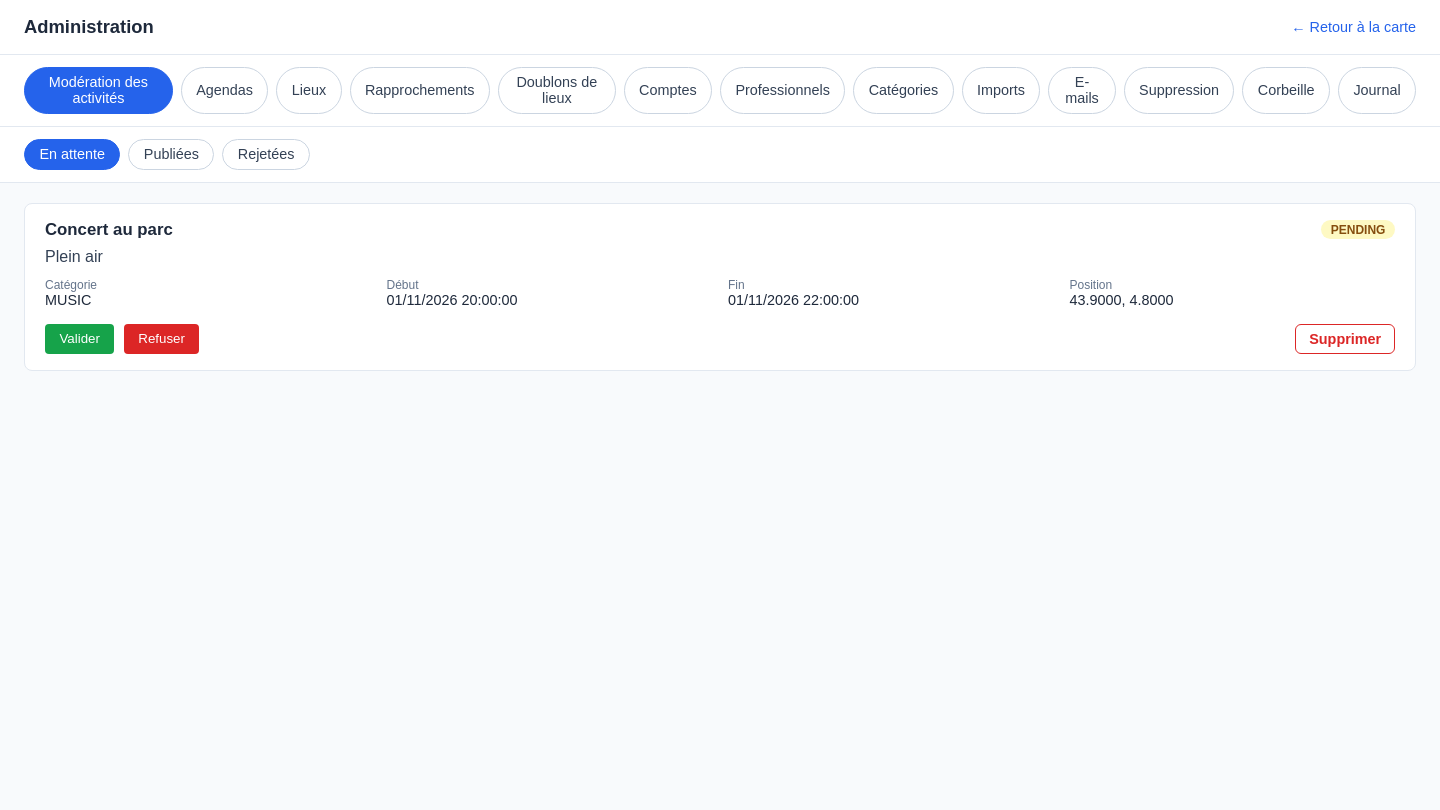
Test: AdminPage — modération › annuler le motif n'envoie rien, et un refus 403 du serveur est affiché
This screenshot has width=1440, height=810.
Click the button "Refuser": (162, 339) left=124, top=324, right=199, bottom=354
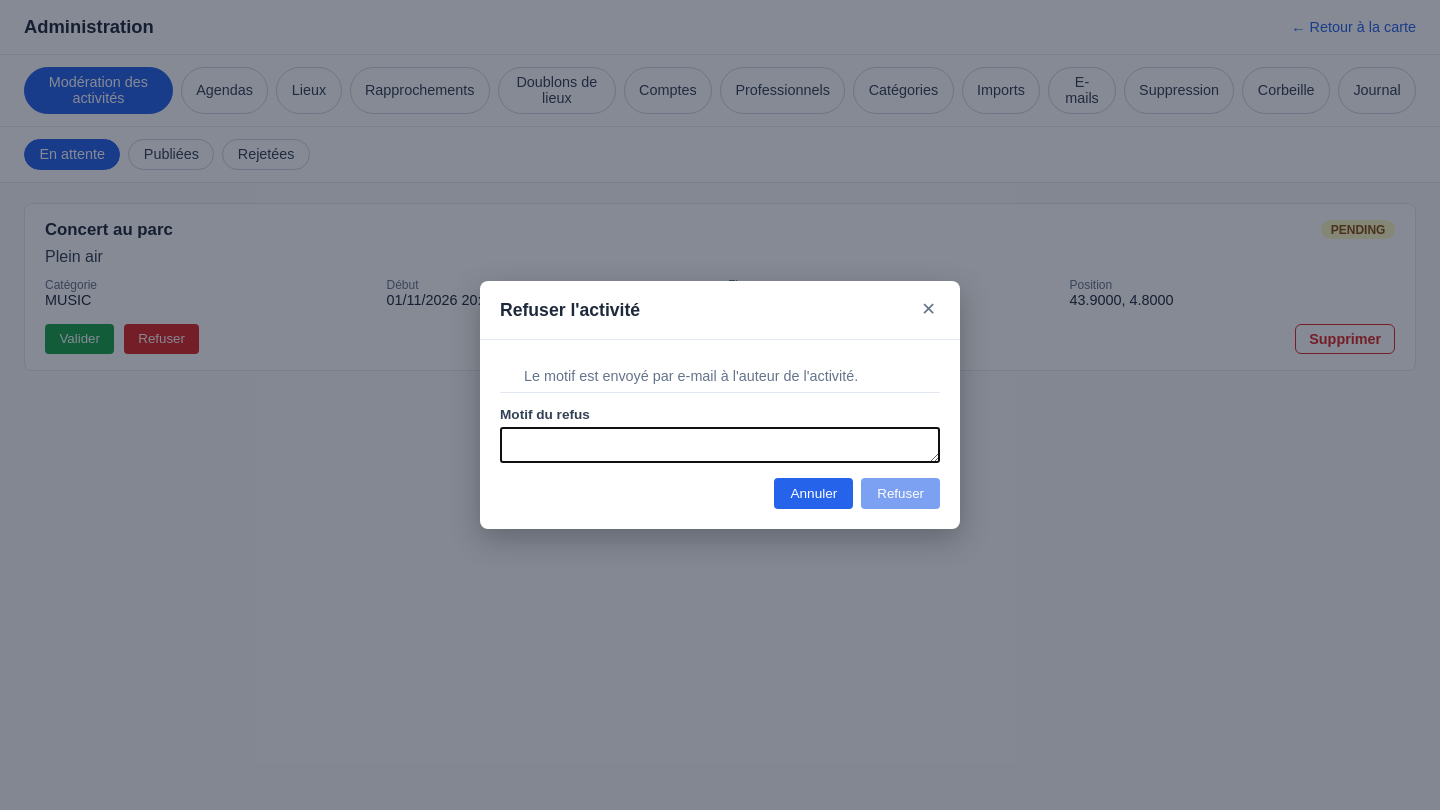
Click the button "Annuler": (814, 493) left=774, top=478, right=853, bottom=509
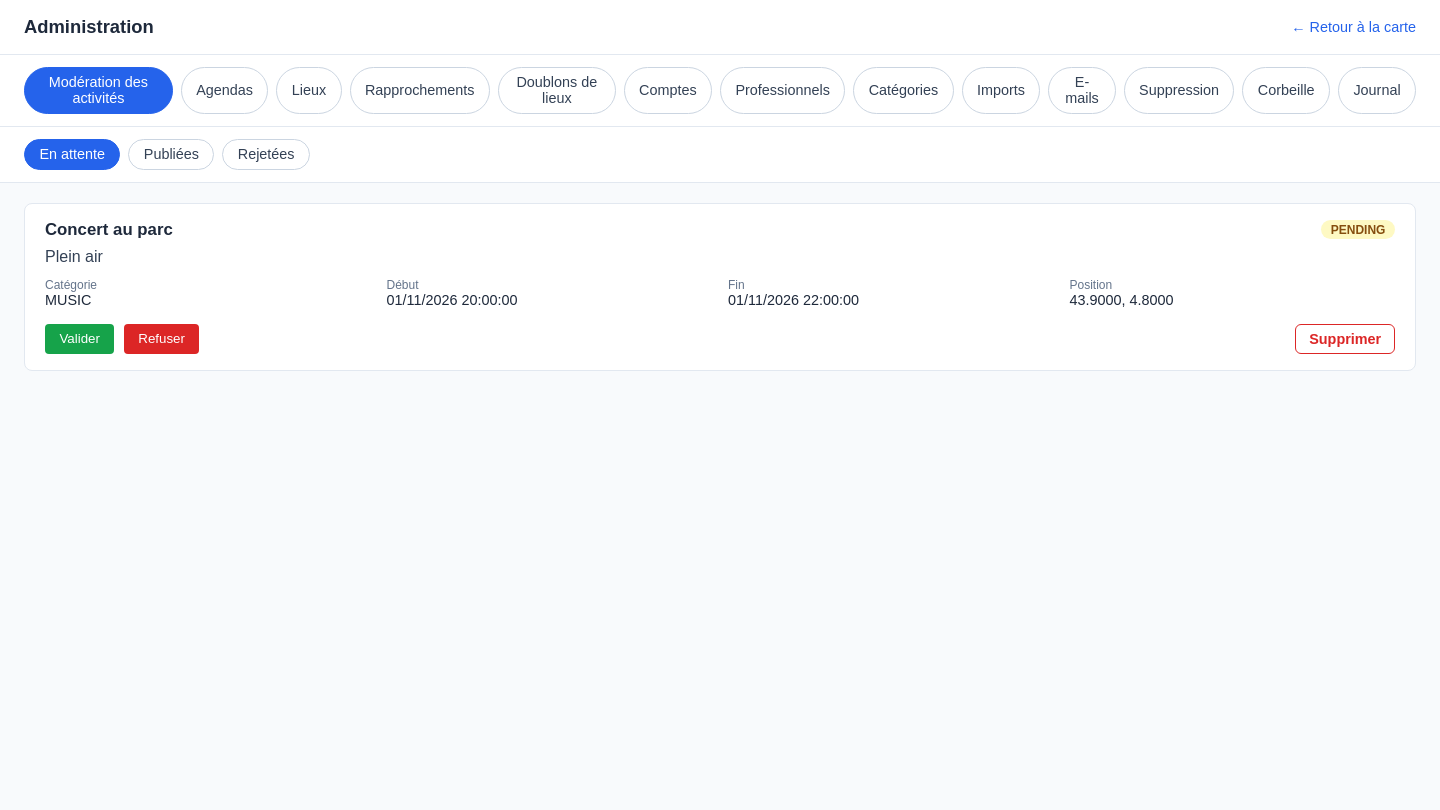
Click the button "Valider": (80, 339) left=45, top=324, right=114, bottom=354
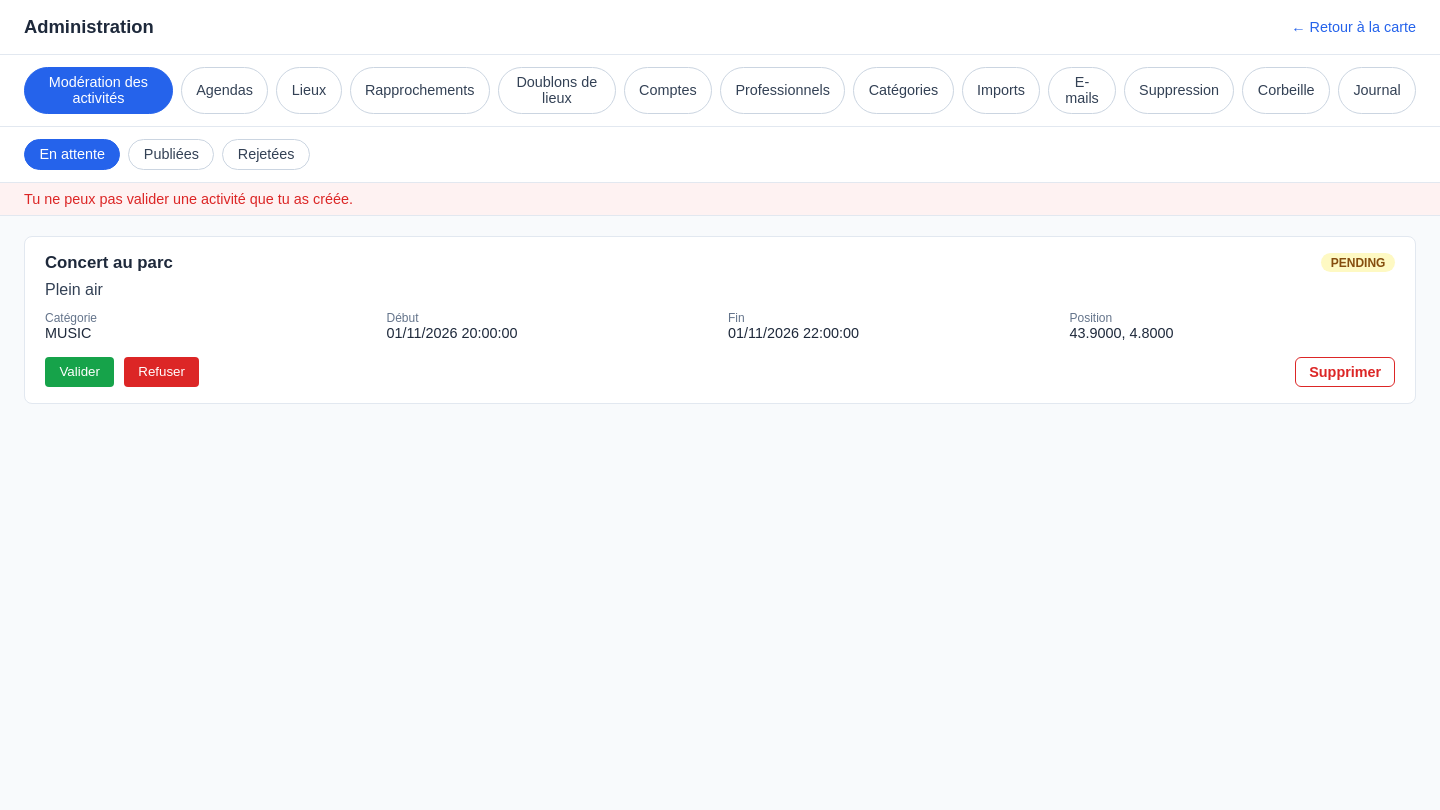
Expected: the text "Tu ne peux pas valider une activité que tu as créée." is shown, left=0, top=183, right=1439, bottom=216
